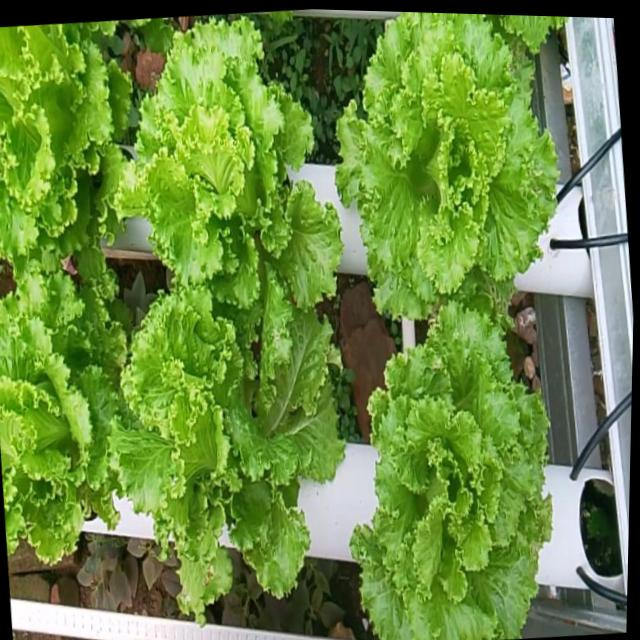Mature: (110, 291, 345, 622), (113, 18, 342, 341), (335, 12, 565, 322), (350, 302, 551, 640), (0, 269, 124, 565), (0, 22, 130, 282)
